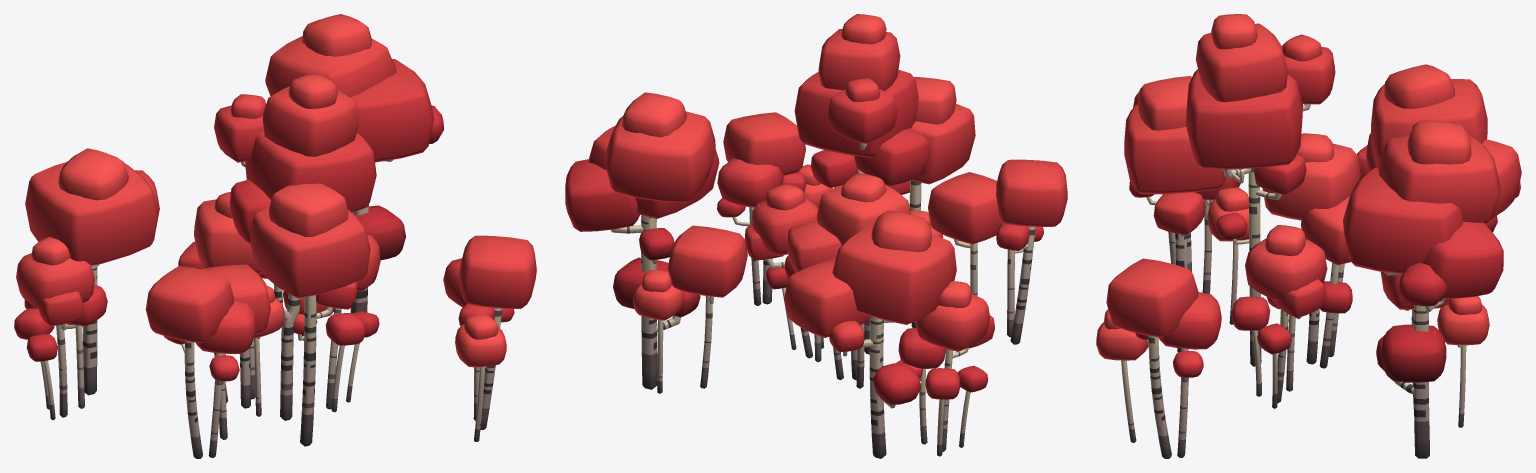
File: birch_tree_group_col3.fbx
3 renders of one model, left to right at view 1: azimuth 30°, elevation 25°; view 2: azimuth 150°, elevation 25°; view 3: azimuth 270°, elevation 25°, orthographic. The views are drawn at different scales.
Visible parts, largest first — view 1: birch_tree_group_col3; view 2: birch_tree_group_col3; view 3: birch_tree_group_col3.
Boxes of the visible parts, x1,y1,x2,y2 form: birch_tree_group_col3: (14,14,536,458); birch_tree_group_col3: (565,14,1067,458); birch_tree_group_col3: (1096,14,1521,458).
Size of the model in its own units: 1686 by 1362 by 1410.
